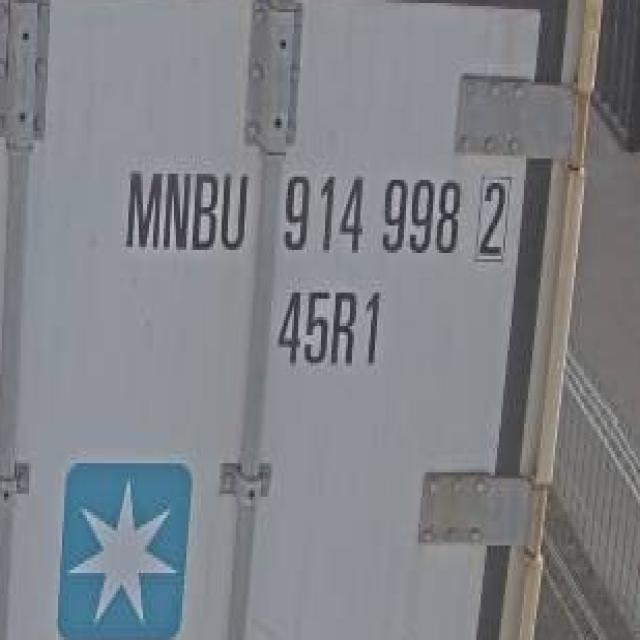dv: (473, 169, 519, 268)
owner: (120, 159, 256, 258)
serial: (276, 163, 471, 263)
size: (275, 274, 387, 376)
